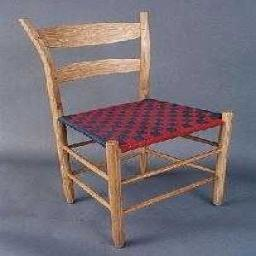Chair: (20, 17, 233, 249)
